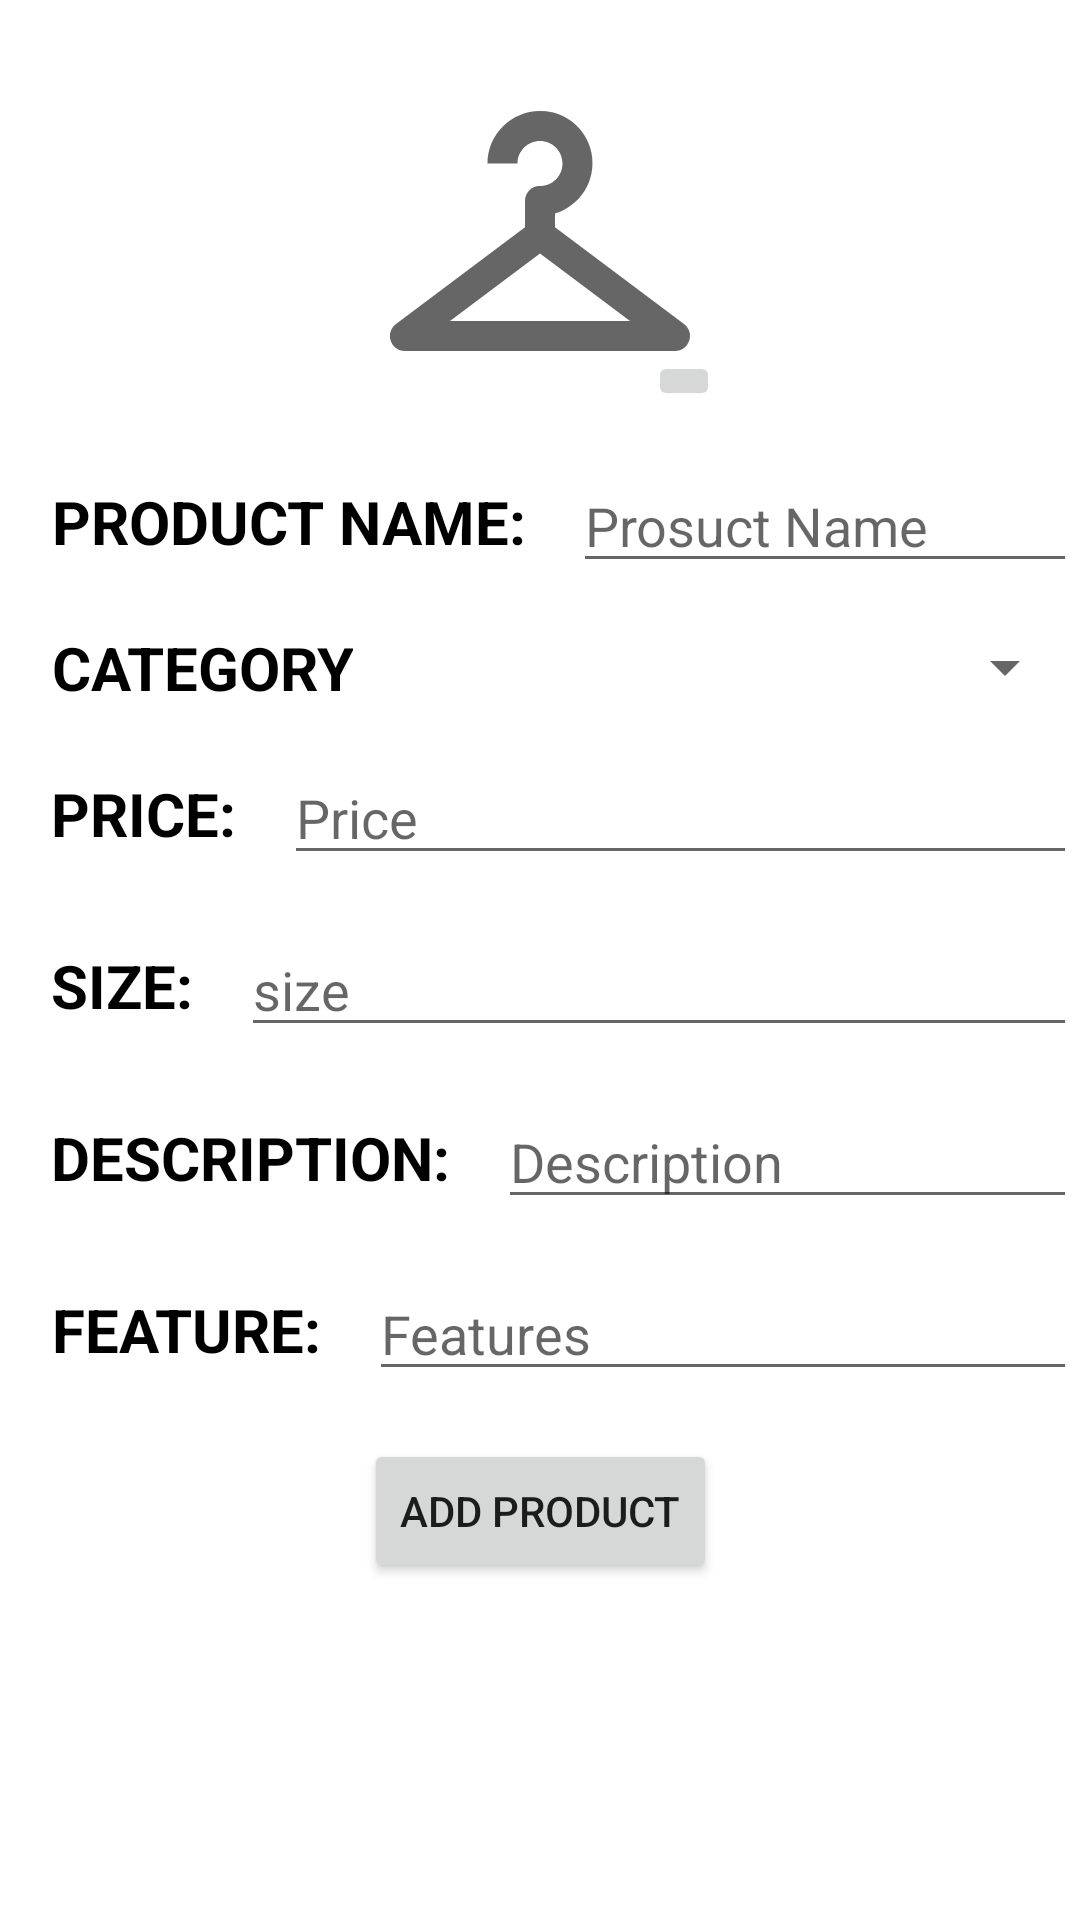

Named icons in this screenshot (1080 x 1920) and their bounding boxes, (x1=x1, y1=y1, x2=x2, y2=y2):
checkroom: (x1=390, y1=111, x2=708, y2=393)
